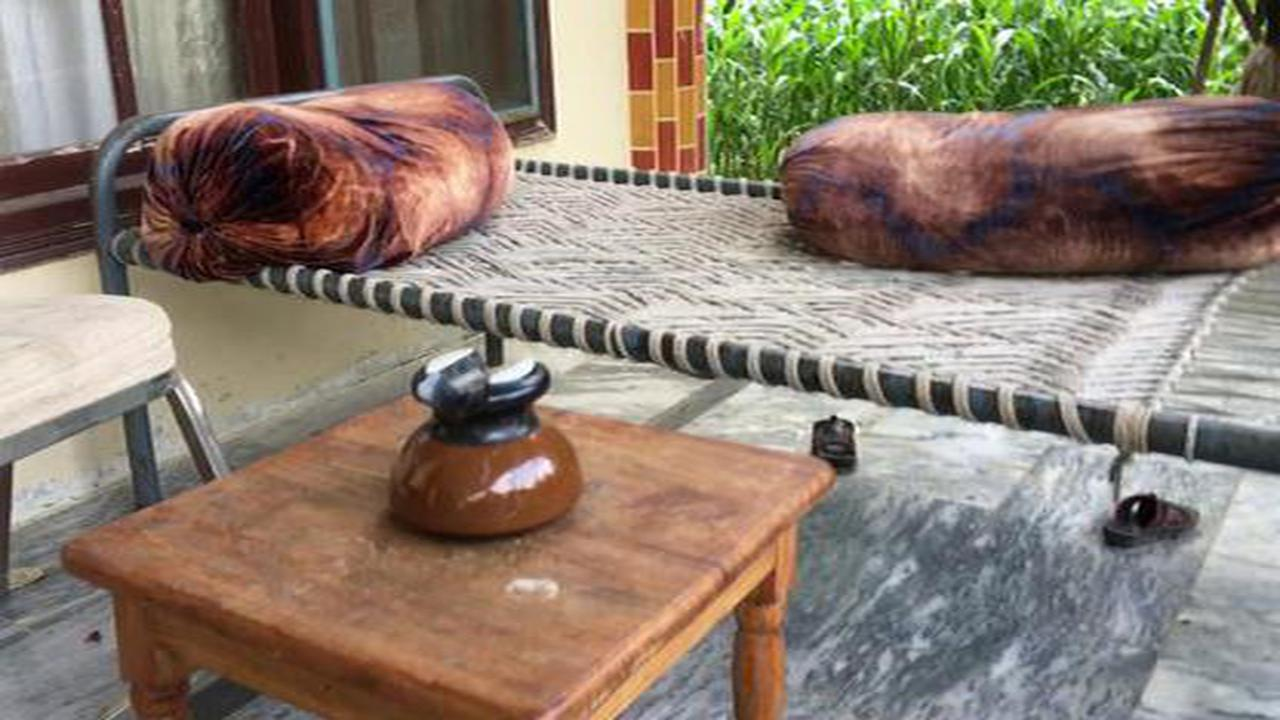insulator_pin: (367, 333, 604, 549)
